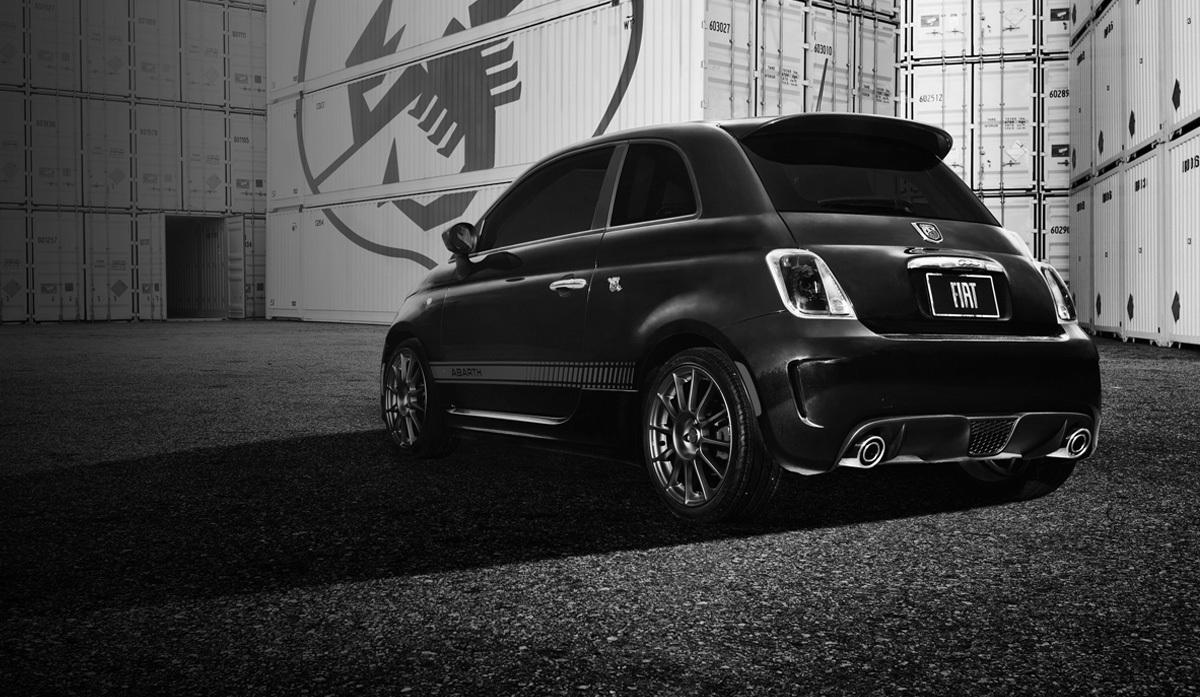car: (377, 113, 1110, 518)
